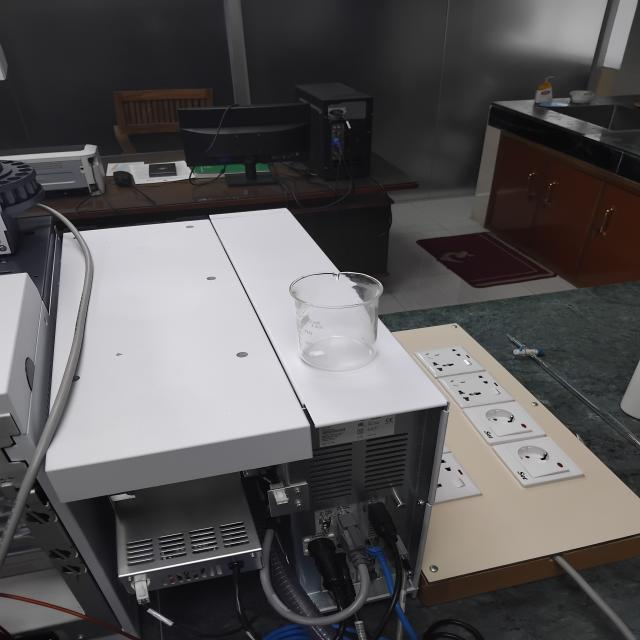Beaker: (269, 249, 407, 387)
